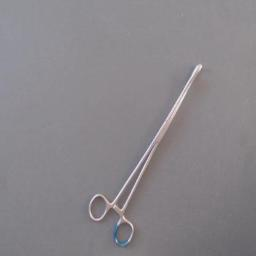Sponge Forceps: (84, 55, 208, 253)
